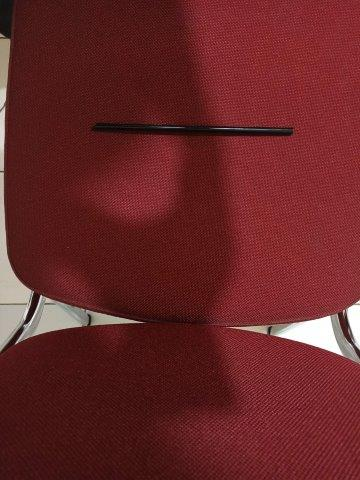sedotan: (93, 122, 294, 135)
